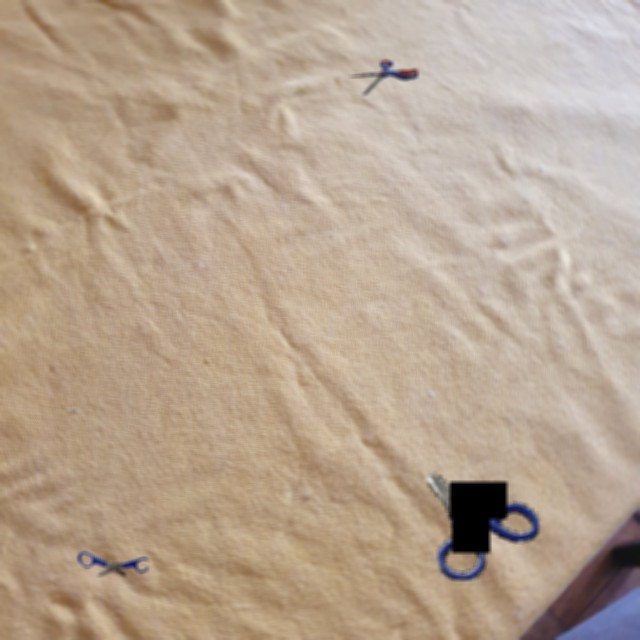scissors: (427, 472, 539, 580), (350, 60, 418, 95), (78, 552, 148, 576)
